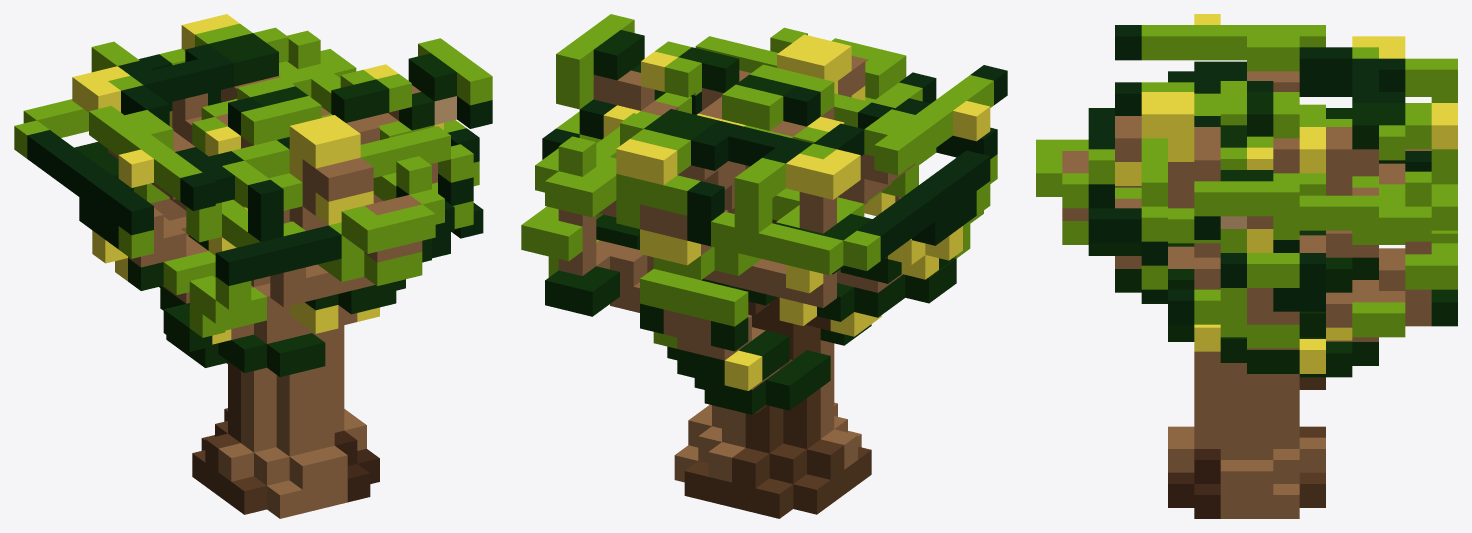
Rendered from Jimmy_Alejandro_Torres_Heraque_fase_3.obj.
The picture shows the model from 3 angles, left to right: view 1: azimuth 30°, elevation 25°; view 2: azimuth 150°, elevation 25°; view 3: azimuth 270°, elevation 25°; orthographic projection. The views are drawn at different scales.
Visible parts, largest first — view 1: Jimmy_Alejandro_Torres_Heraque_fase_3; view 2: Jimmy_Alejandro_Torres_Heraque_fase_3; view 3: Jimmy_Alejandro_Torres_Heraque_fase_3.
Part boxes in pixels (<box>): Jimmy_Alejandro_Torres_Heraque_fase_3: <box>14,14,492,518</box>; Jimmy_Alejandro_Torres_Heraque_fase_3: <box>521,14,1007,518</box>; Jimmy_Alejandro_Torres_Heraque_fase_3: <box>1036,14,1457,518</box>.
Bounding box in the file's own units: 16 × 16 × 16.
Materials: 1 (1 with a texture image).
